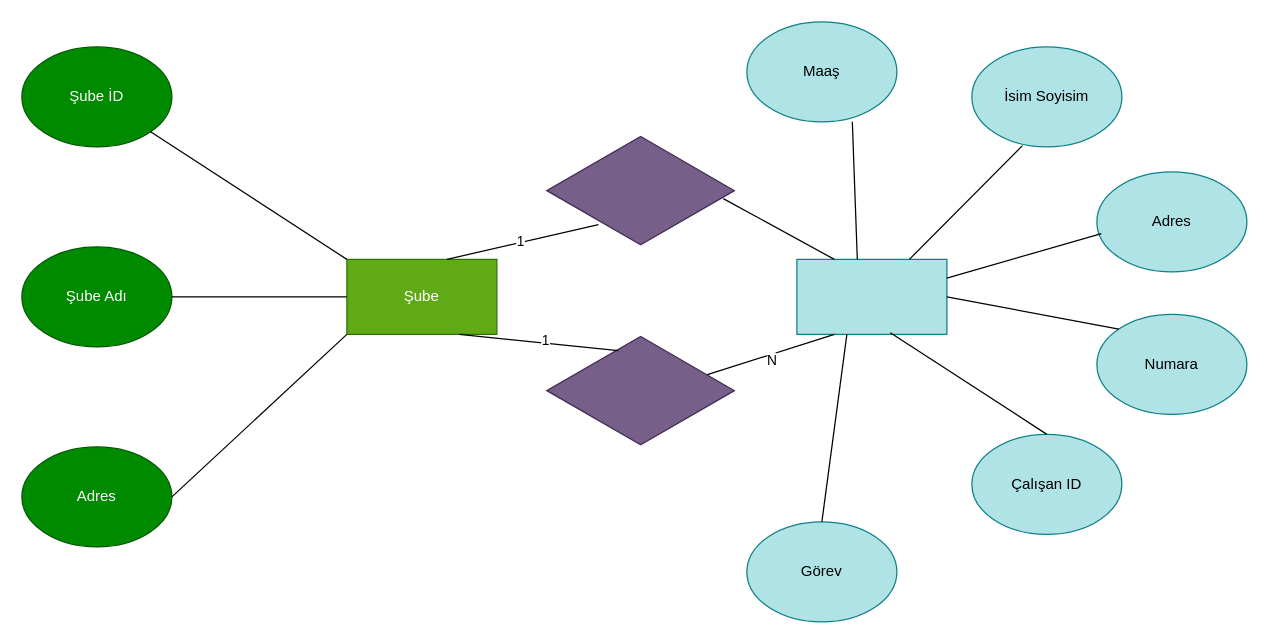
Some shapes in this 1269 by 644 pixel diagram are drawn without their labels. The shapes that lost their labels are listed below. From the top down, each one's centre as x and y in pixels, then its label:
At (640,190): "Yönetir".
At (871,296): "Çalışan".
At (640,390): "Çalışır".
